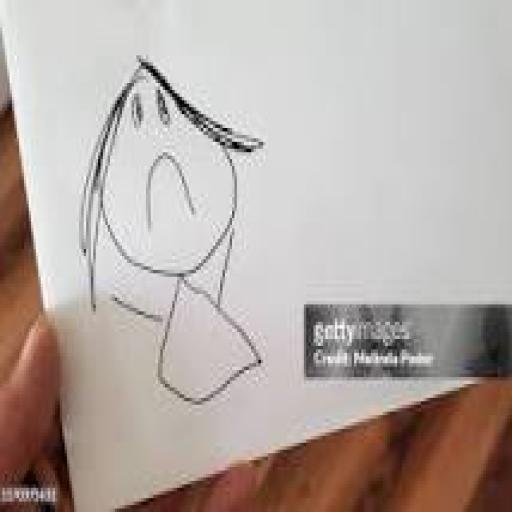person: (76, 39, 272, 409)
